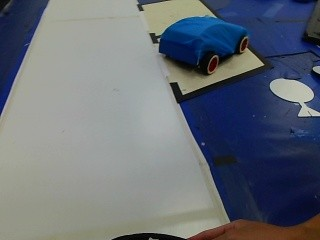car: (147, 16, 255, 80)
